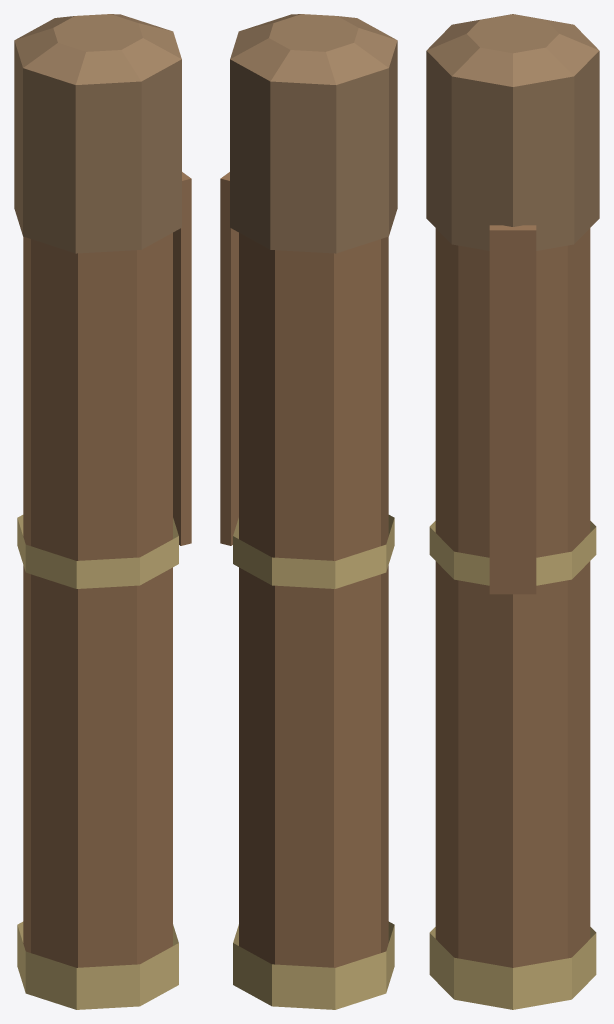
The model's file is prop-map-case-tube.fbx.
The picture shows the model from 3 angles, left to right: view 1: azimuth 30°, elevation 25°; view 2: azimuth 150°, elevation 25°; view 3: azimuth 270°, elevation 25°; orthographic projection.
Visible parts, largest first — view 1: prop-map-case-tube; view 2: prop-map-case-tube; view 3: prop-map-case-tube.
Part boxes in pixels (x1,y1,x2,y2): prop-map-case-tube: (14, 14, 191, 1009); prop-map-case-tube: (220, 14, 397, 1009); prop-map-case-tube: (426, 14, 599, 1009).
Bounding box in the file's own units: 11.7 × 67.2 × 11.2.
